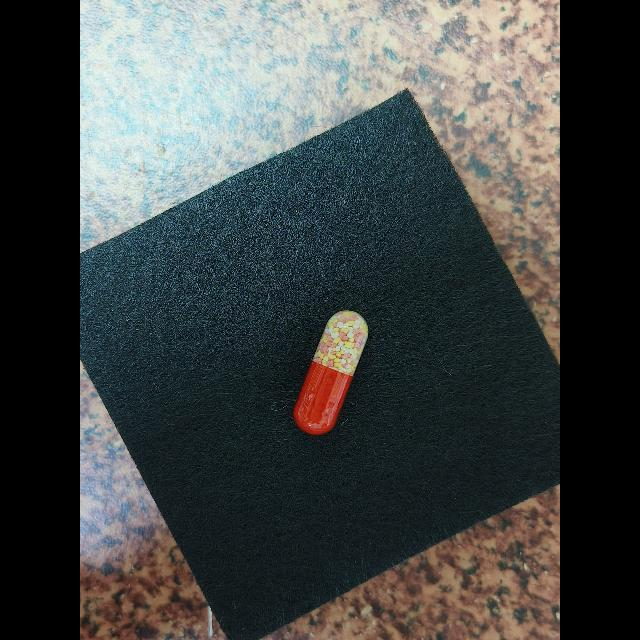Intact Capsule: (293, 310, 369, 434)
